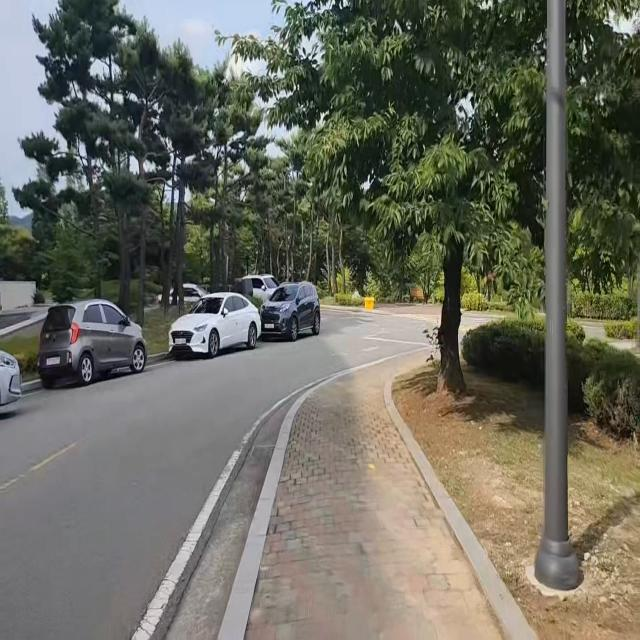obstacle: (35, 293, 153, 397), (166, 286, 263, 365), (236, 275, 322, 345), (0, 344, 26, 421)
road: (0, 307, 435, 640)
sidewalk: (219, 345, 537, 640)
